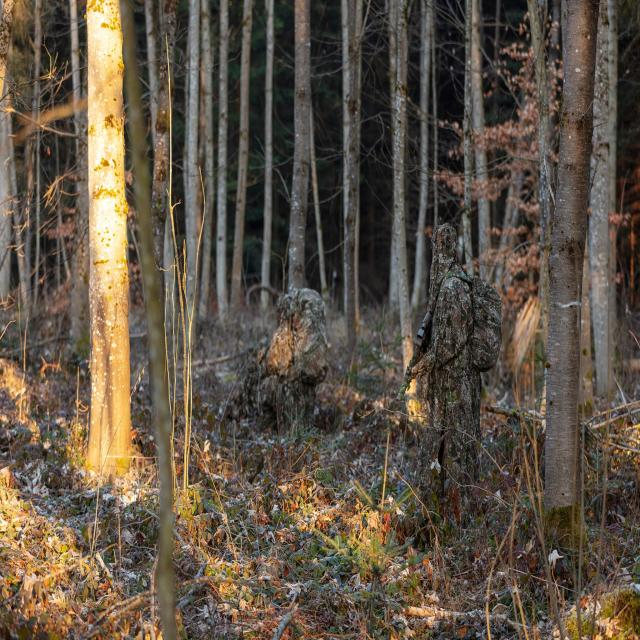Camouflage: (216, 289, 328, 435)
Human: (394, 223, 507, 529)
